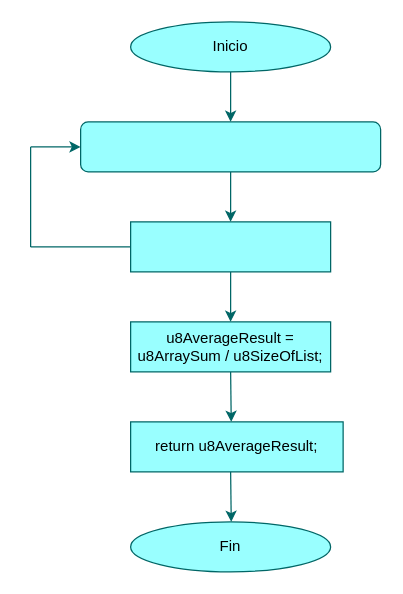
Image size: 403x594. Some labels were removed from this diagram. The shapes that lost their labels are listed below. From the top down, each one's centre as x and y in pixels, then its label:
At point (230, 146): "for ( u8First = 0; u8First < u8SizeOfList; u8First++)".
At point (230, 246): "u8ArraySum += pu8Src[u8First];".
